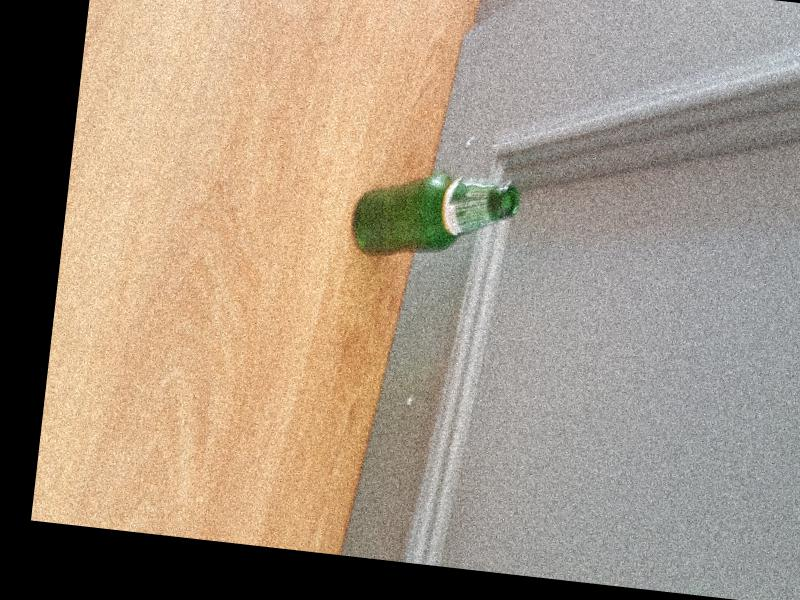Beer: (349, 167, 518, 268)
